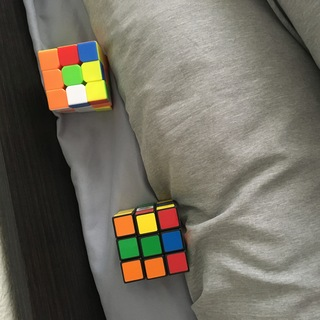face: (113, 206, 190, 285), (38, 41, 107, 110)
